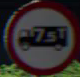Heavy Vehicles: (8, 5, 71, 63)
